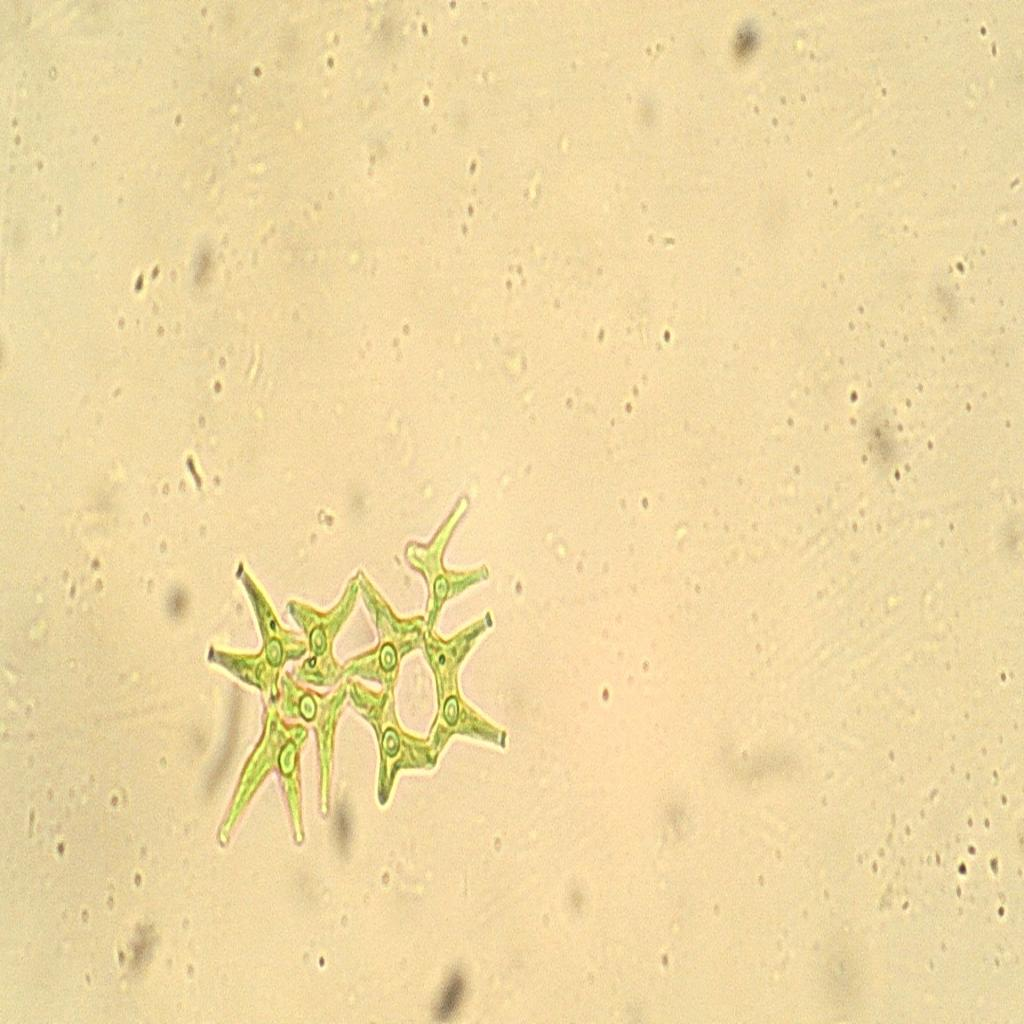Pediastrum_CFI: (188, 482, 520, 884)
